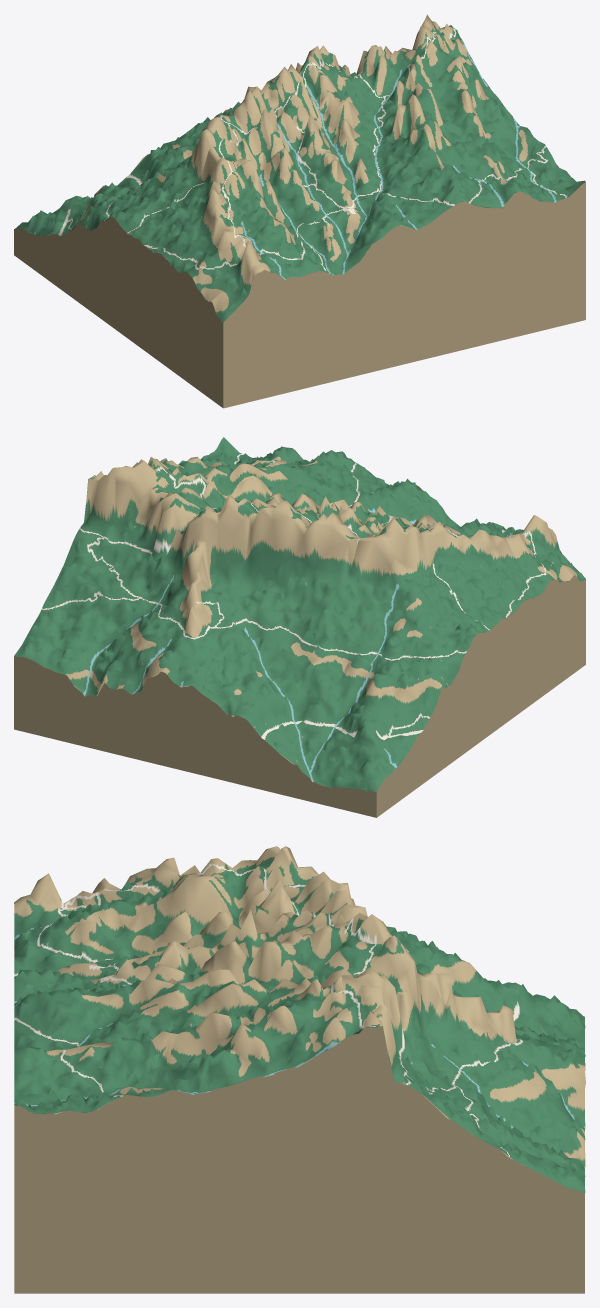
Rendered from agulles-montserrat-preview.glb.
3 views of the same model, one above another, from view 1: azimuth 30°, elevation 25°; view 2: azimuth 150°, elevation 25°; view 3: azimuth 270°, elevation 25° (orthographic). The views are drawn at different scales.
Visible parts, largest first — view 1: Preview surface; view 2: Preview surface; view 3: Preview surface.
Part boxes in pixels (bbox=[...]): Preview surface: bbox=[14, 14, 585, 408]; Preview surface: bbox=[14, 437, 585, 817]; Preview surface: bbox=[14, 846, 585, 1293].
Bounding box in the file's own units: 1 × 0.5641 × 1.
Materials: 2 (1 with a texture image).
